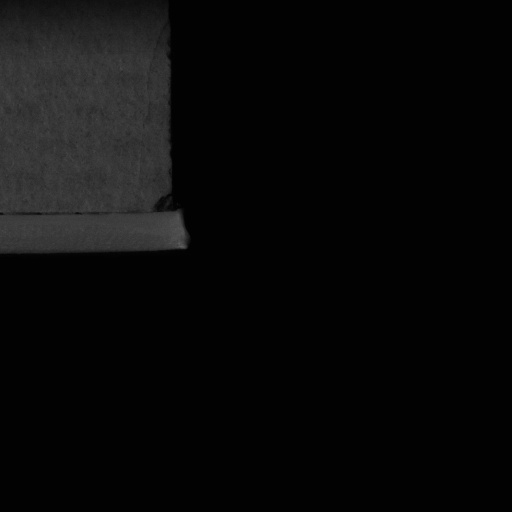bengque: (147, 190, 184, 217)
